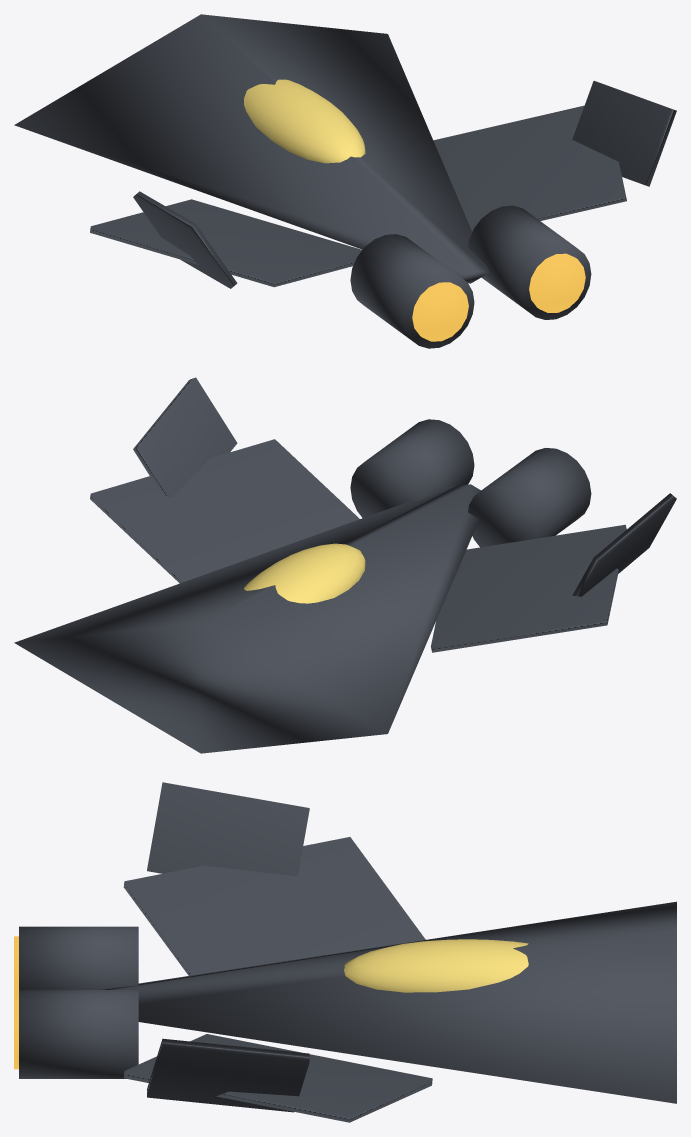
File: Sol_Scout_Ship.glb
3 views of the same model, one above another, from view 1: azimuth 30°, elevation 25°; view 2: azimuth 150°, elevation 25°; view 3: azimuth 270°, elevation 25° (orthographic). The views are drawn at different scales.
Parts seen in each view (by area): view 1: Scout_Fuselage, Scout_Wing_Starboard, Scout_Wing_Port, Scout_Nozzle_Port, Scout_Nozzle_Starboard, Scout_Canopy, Scout_Winglet_Starboard, Scout_Winglet_Port, Scout_Exhaust_Port, Scout_Exhaust_Starboard; view 2: Scout_Fuselage, Scout_Wing_Starboard, Scout_Wing_Port, Scout_Nozzle_Port, Scout_Nozzle_Starboard, Scout_Winglet_Starboard, Scout_Canopy, Scout_Winglet_Port; view 3: Scout_Fuselage, Scout_Wing_Port, Scout_Winglet_Port, Scout_Nozzle_Starboard, Scout_Winglet_Starboard, Scout_Canopy, Scout_Wing_Starboard, Scout_Nozzle_Port.
Boxes of the visible parts, bbox=[...] form: Scout_Fuselage: bbox=[14, 14, 489, 283]; Scout_Wing_Starboard: bbox=[433, 105, 626, 231]; Scout_Wing_Port: bbox=[90, 199, 361, 287]; Scout_Nozzle_Port: bbox=[350, 234, 474, 348]; Scout_Nozzle_Starboard: bbox=[468, 205, 591, 319]; Scout_Canopy: bbox=[244, 79, 365, 163]; Scout_Winglet_Starboard: bbox=[572, 81, 676, 186]; Scout_Winglet_Port: bbox=[133, 191, 237, 288]; Scout_Exhaust_Port: bbox=[412, 282, 468, 341]; Scout_Exhaust_Starboard: bbox=[529, 253, 585, 312]; Scout_Fuselage: bbox=[14, 484, 480, 753]; Scout_Wing_Starboard: bbox=[90, 439, 359, 583]; Scout_Wing_Port: bbox=[431, 524, 626, 652]; Scout_Nozzle_Port: bbox=[468, 448, 591, 547]; Scout_Nozzle_Starboard: bbox=[350, 419, 474, 517]; Scout_Winglet_Starboard: bbox=[133, 377, 237, 497]; Scout_Canopy: bbox=[244, 543, 365, 603]; Scout_Winglet_Port: bbox=[572, 493, 676, 596]; Scout_Fuselage: bbox=[98, 901, 676, 1103]; Scout_Wing_Port: bbox=[123, 837, 425, 975]; Scout_Winglet_Port: bbox=[147, 782, 309, 876]; Scout_Nozzle_Starboard: bbox=[19, 990, 138, 1078]; Scout_Winglet_Starboard: bbox=[147, 1038, 309, 1112]; Scout_Canopy: bbox=[344, 939, 528, 992]; Scout_Wing_Starboard: bbox=[123, 1034, 432, 1122]; Scout_Nozzle_Port: bbox=[19, 926, 138, 989].
Size of the model in its own units: 13.29 by 3.64 by 13.3.
